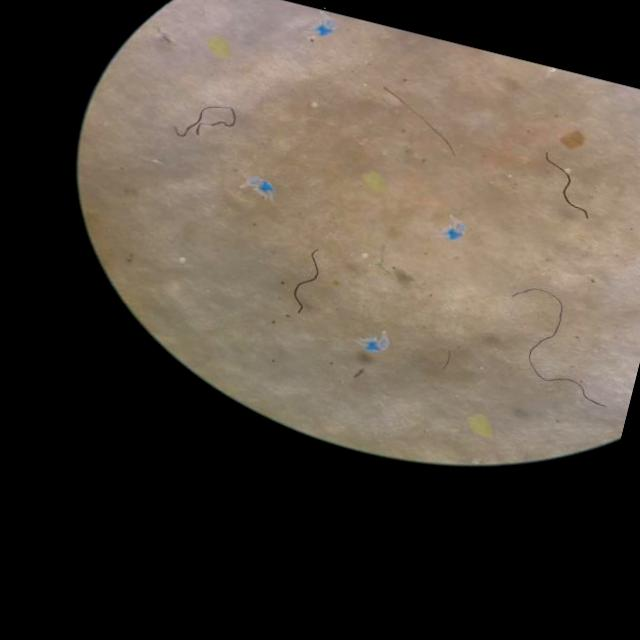fiber: (514, 287, 601, 404), (382, 88, 452, 153), (544, 153, 587, 218), (173, 105, 234, 138), (293, 249, 318, 314)
film: (247, 177, 273, 197), (361, 335, 387, 352), (444, 222, 462, 240)
fragment: (467, 415, 489, 436), (362, 172, 383, 192), (560, 131, 583, 149), (207, 38, 228, 57)
pellet: (360, 252, 367, 258), (310, 101, 316, 108)
